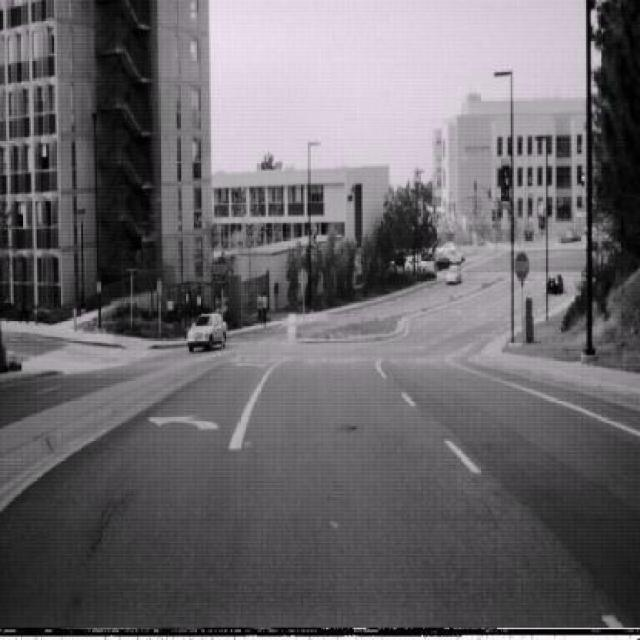stop: (514, 251, 529, 282), (214, 253, 229, 284)
